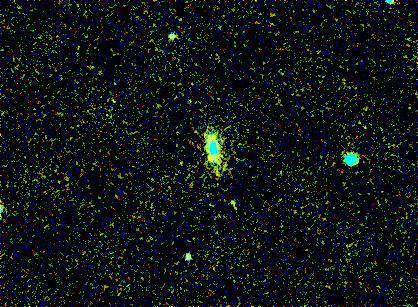star: (215, 186, 245, 216)
